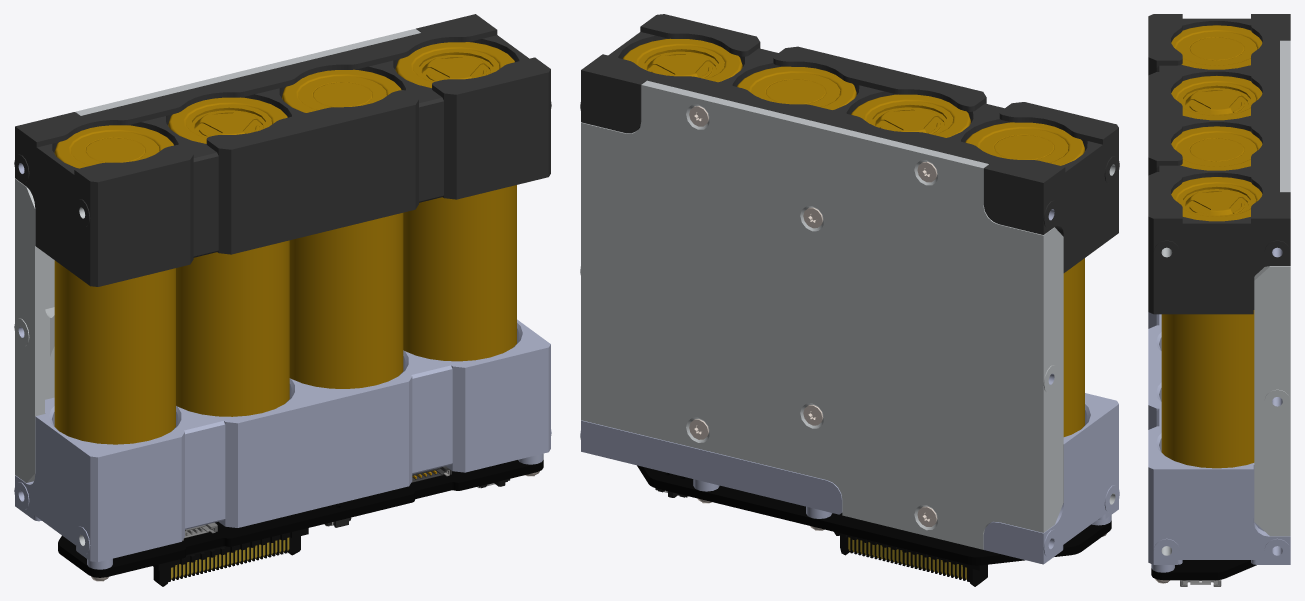
File: battery1.glb
3 renders of one model, left to right at view 1: azimuth 30°, elevation 25°; view 2: azimuth 150°, elevation 25°; view 3: azimuth 270°, elevation 25°, orthographic. The views are drawn at different scales.
Parts seen in each view (by area): view 1: parts, inst_0_0, inst_1_0, inst_1_1, inst_0_1, board, if_0; view 2: parts, inst_0_0, board, inst_0_1, inst_1_0, inst_1_1, if_1; view 3: parts, inst_1_1, inst_1_0, inst_0_0, inst_0_1, board, if_3.
Boxes of the visible parts, <box> form: parts: <box>14,14,551,569</box>; inst_0_0: <box>54,125,175,444</box>; inst_1_0: <box>168,97,289,416</box>; inst_1_1: <box>395,42,516,361</box>; inst_0_1: <box>282,69,403,388</box>; board: <box>58,460,543,577</box>; if_0: <box>153,528,308,586</box>; parts: <box>580,14,1119,564</box>; inst_0_0: <box>965,122,1084,436</box>; board: <box>637,465,1111,565</box>; inst_0_1: <box>737,66,856,109</box>; inst_1_0: <box>851,94,970,137</box>; inst_1_1: <box>623,38,742,82</box>; if_1: <box>834,532,987,586</box>; parts: <box>1148,14,1290,572</box>; inst_1_1: <box>1161,177,1262,468</box>; inst_1_0: <box>1171,75,1262,120</box>; inst_0_0: <box>1171,25,1262,69</box>; inst_0_1: <box>1171,126,1262,170</box>; board: <box>1151,560,1256,580</box>; if_3: <box>1180,579,1221,586</box>.
Size of the model in its own units: 92.3 by 83.01 by 27.
